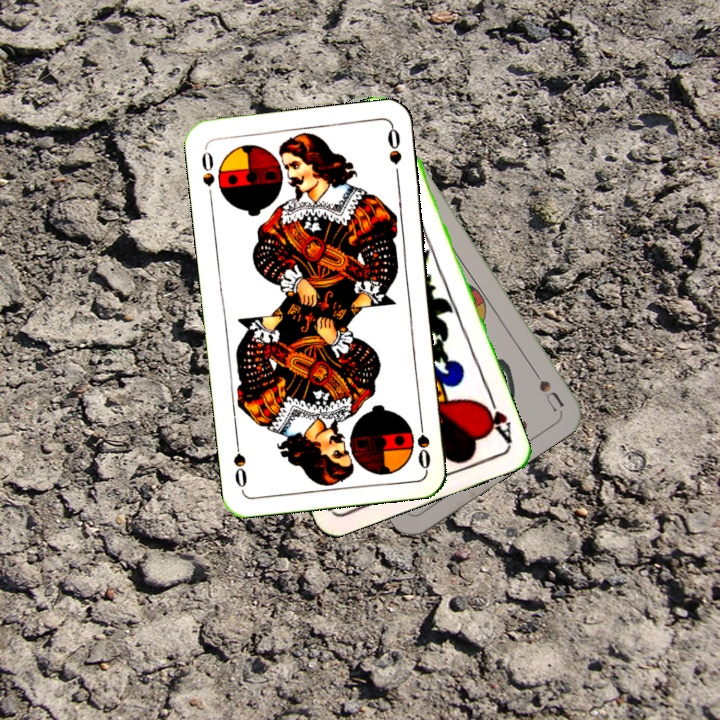HA: (476, 389, 515, 446)
SO: (413, 412, 433, 472), (197, 144, 217, 203)
SU: (524, 359, 566, 413)
